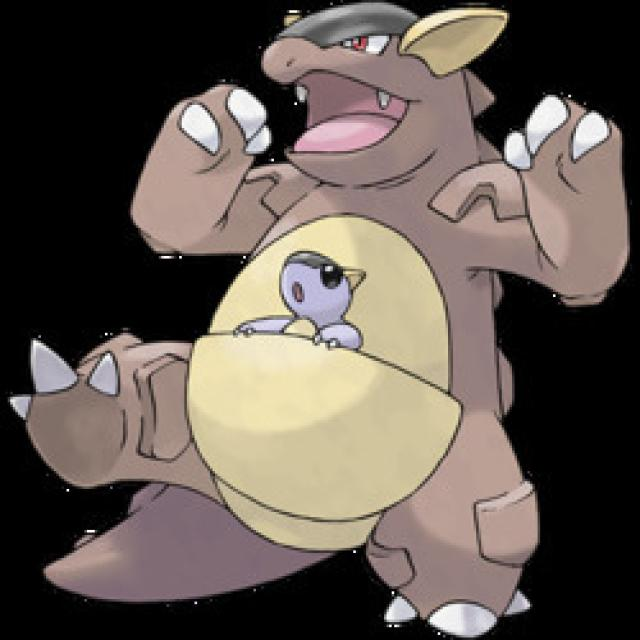Kangaskhan: (135, 0, 624, 532)
